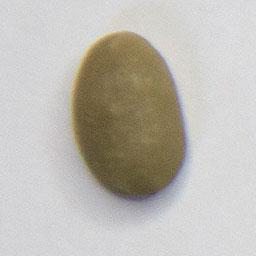premium: (69, 25, 190, 200)
